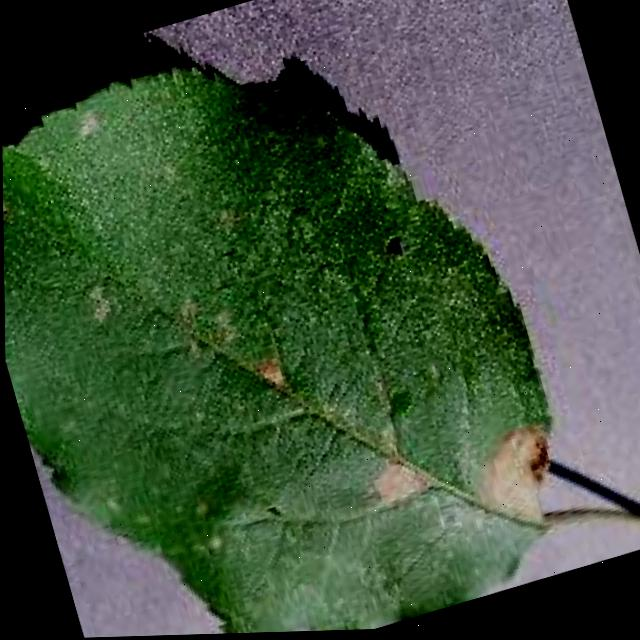black_rot: (463, 402, 569, 511), (351, 436, 445, 522), (240, 339, 301, 401)
